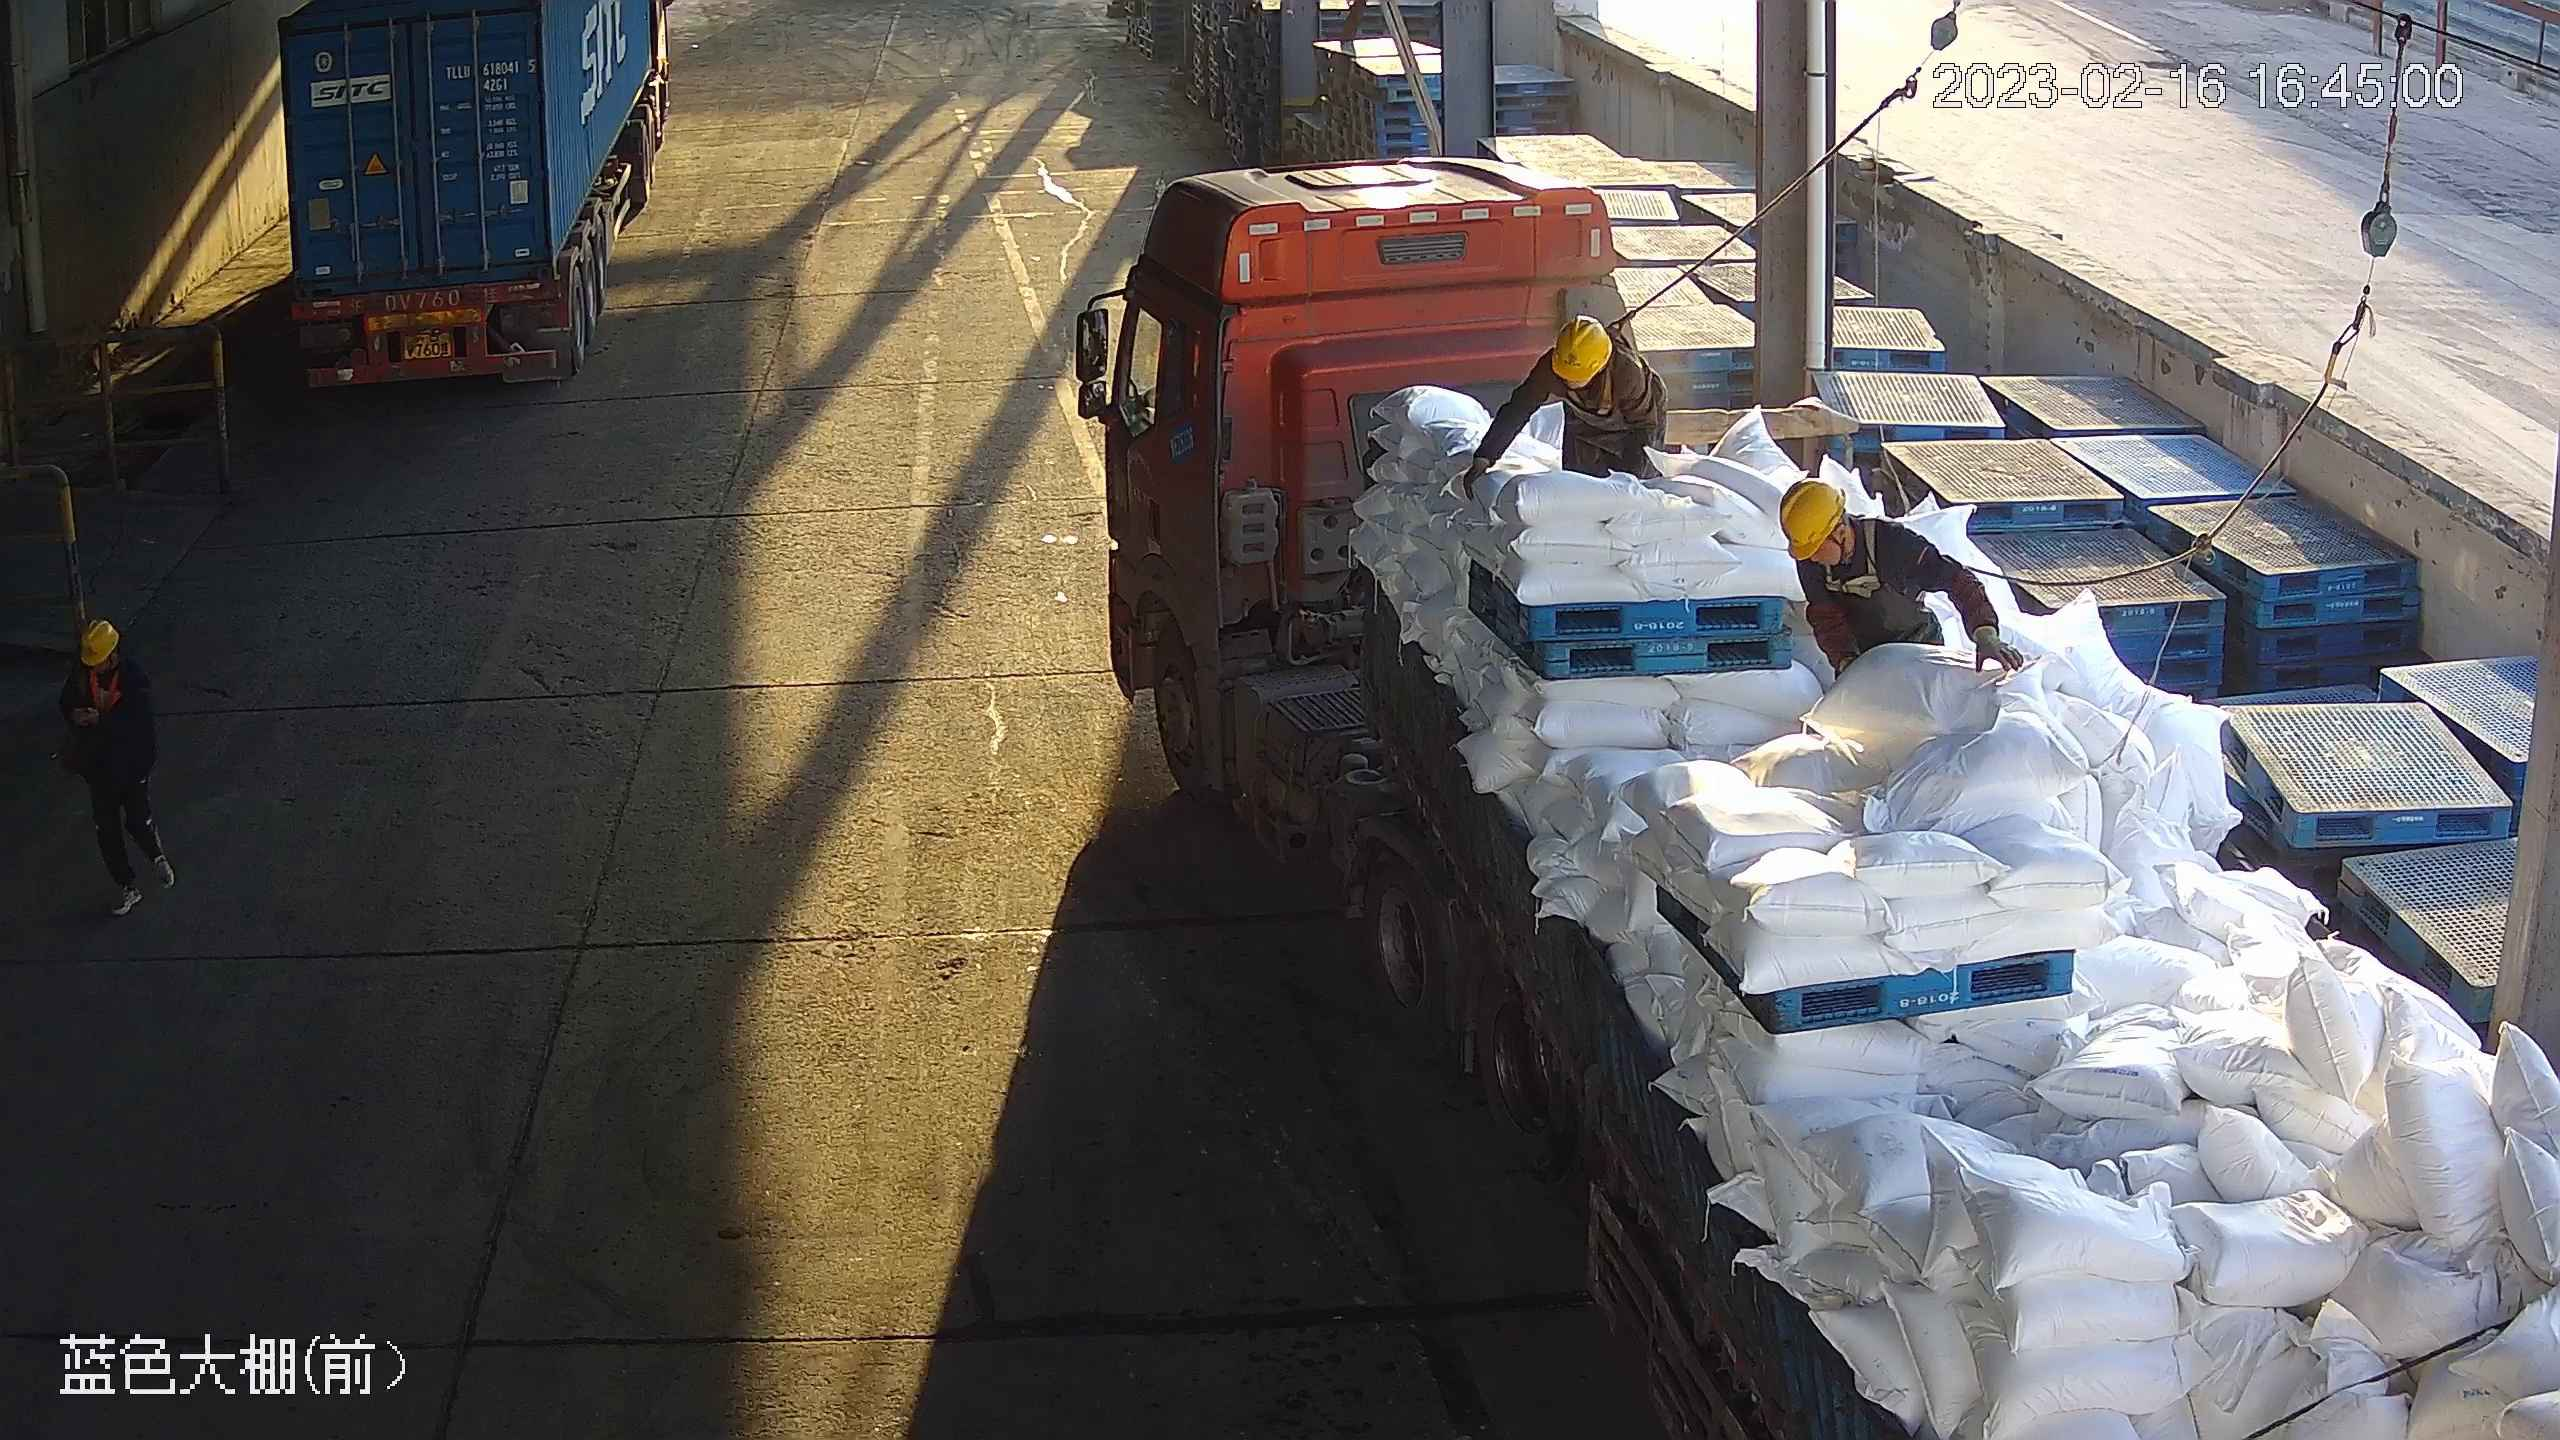belt: (1820, 562, 1881, 599), (81, 674, 127, 709), (1565, 392, 1614, 418)
head: (1781, 479, 1909, 581), (1539, 318, 1632, 399), (65, 620, 137, 695)
helmet: (1774, 481, 1842, 560), (1551, 316, 1609, 383), (79, 616, 120, 664)
people: (56, 616, 176, 923), (1462, 316, 1672, 492)
truck: (1093, 151, 2560, 1440), (274, 1, 683, 397)
